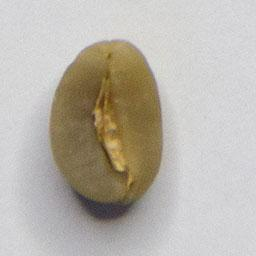premium: (47, 36, 167, 212)
